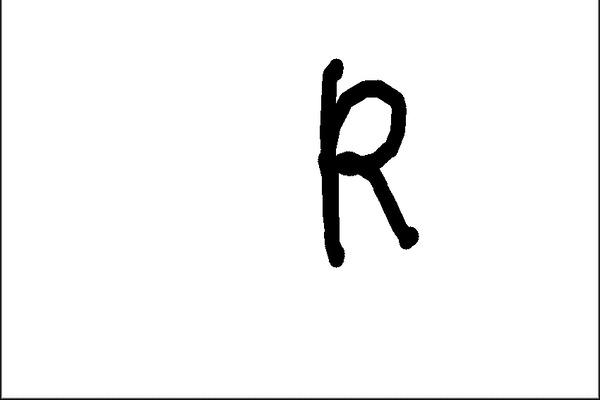R: (304, 48, 430, 269)
